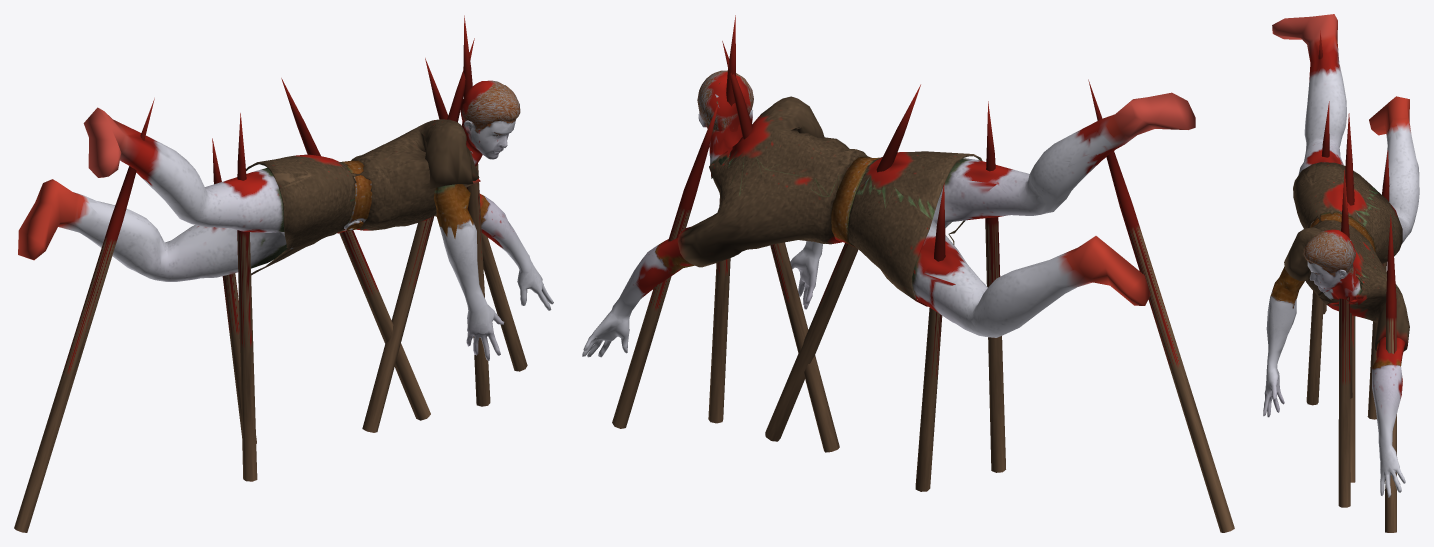
Rendered from mm6_deco_corpse06.glb.
3 views of the same model, side by side, from view 1: azimuth 30°, elevation 25°; view 2: azimuth 150°, elevation 25°; view 3: azimuth 270°, elevation 25° (orthographic). The views are drawn at different scales.
Parts seen in each view (by area): view 1: Corpse06; view 2: Corpse06; view 3: Corpse06.
Boxes of the visible parts, x1,y1,x2,y2 form: Corpse06: (14,15,553,532); Corpse06: (582,15,1234,532); Corpse06: (1263,14,1419,532).
Bounding box in the file's own units: 1.82 × 1.21 × 0.507.
2 materials, 2 textured.
